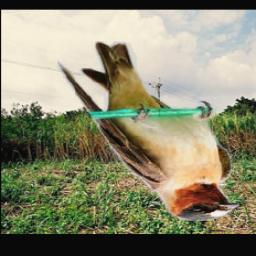Swallow: (58, 42, 241, 222)
